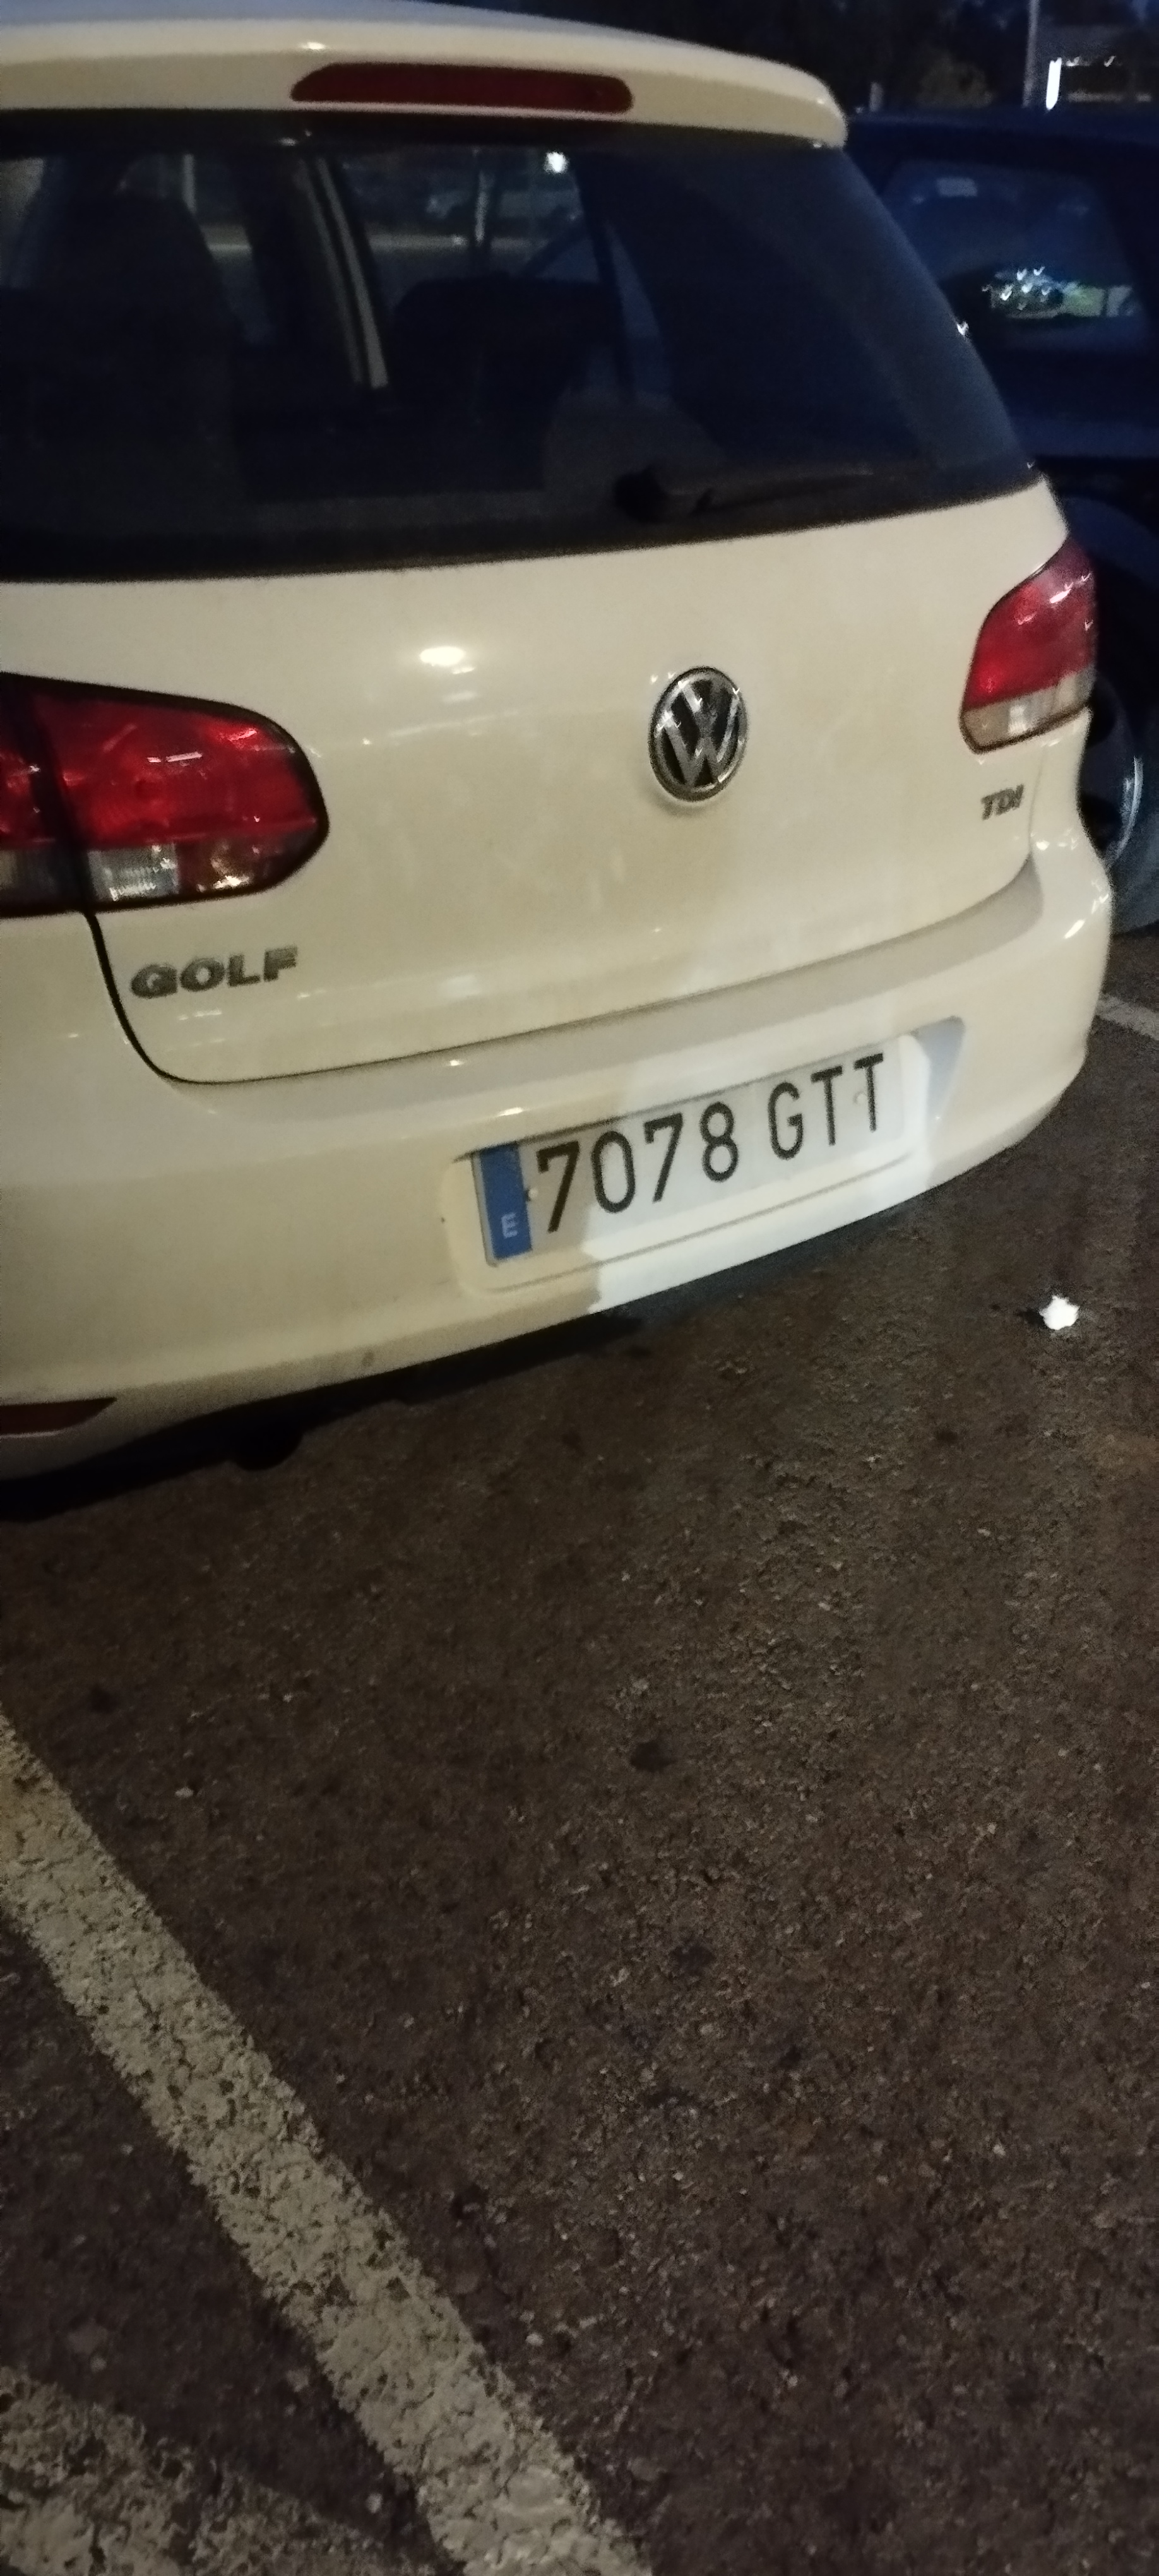Car: (0, 10, 1117, 1462)
Plate: (478, 1160, 895, 1255)
